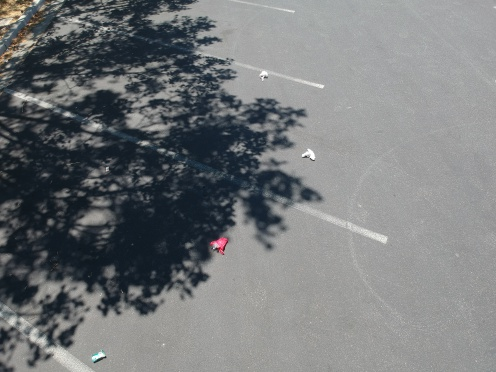plastic bag: (205, 229, 234, 259), (256, 68, 273, 84)
